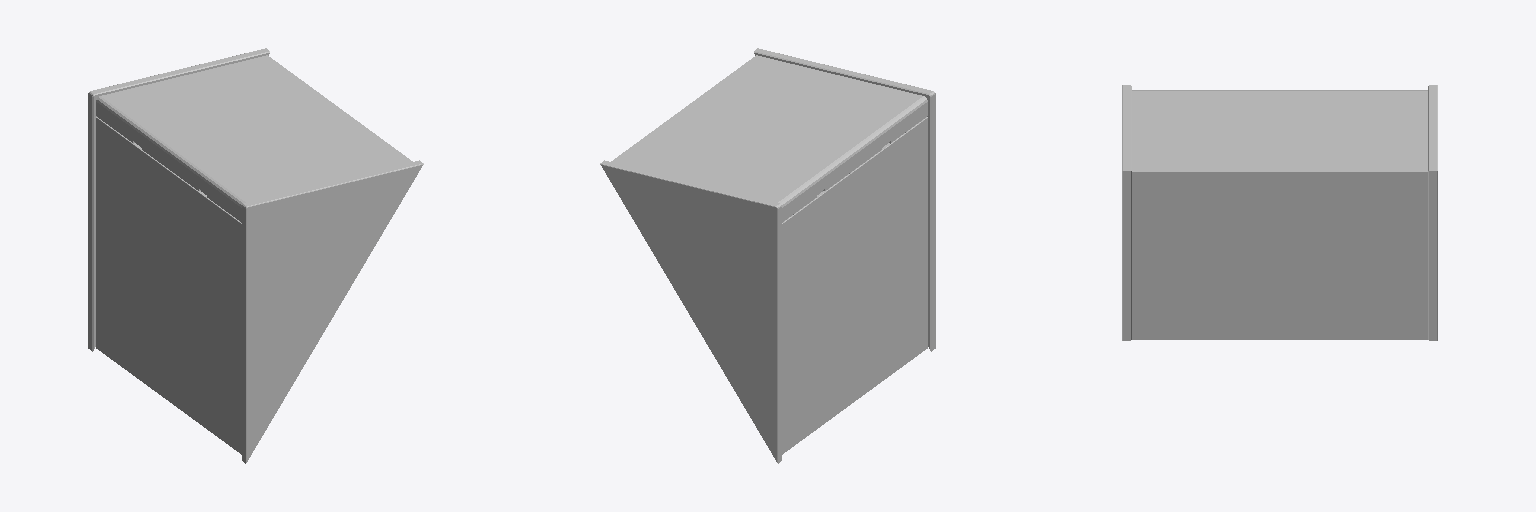
Rendered from Bench.obj.
3 views of the same model, side by side, from view 1: azimuth 30°, elevation 25°; view 2: azimuth 150°, elevation 25°; view 3: azimuth 270°, elevation 25° (orthographic).
Parts seen in each view (by area): view 1: Cube.008_Cube.051; view 2: Cube.008_Cube.051; view 3: Cube.008_Cube.051.
Part boxes in pixels (x1,y1,x2,y2): Cube.008_Cube.051: (88, 48, 423, 463); Cube.008_Cube.051: (600, 48, 935, 463); Cube.008_Cube.051: (1122, 85, 1437, 340).
Bounding box in the file's own units: 4.16 × 5.74 × 6.4.